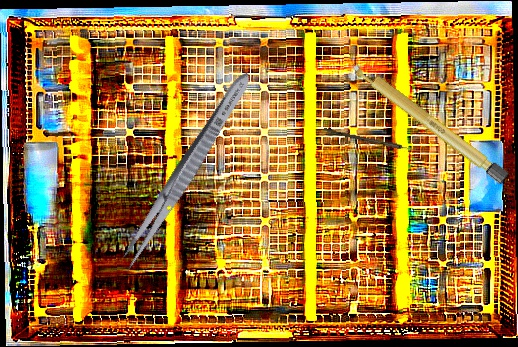Dressing Forceps: (114, 66, 258, 277)
Scalpel Handle: (347, 57, 511, 186)
Surgical Spoon: (322, 127, 430, 156)
